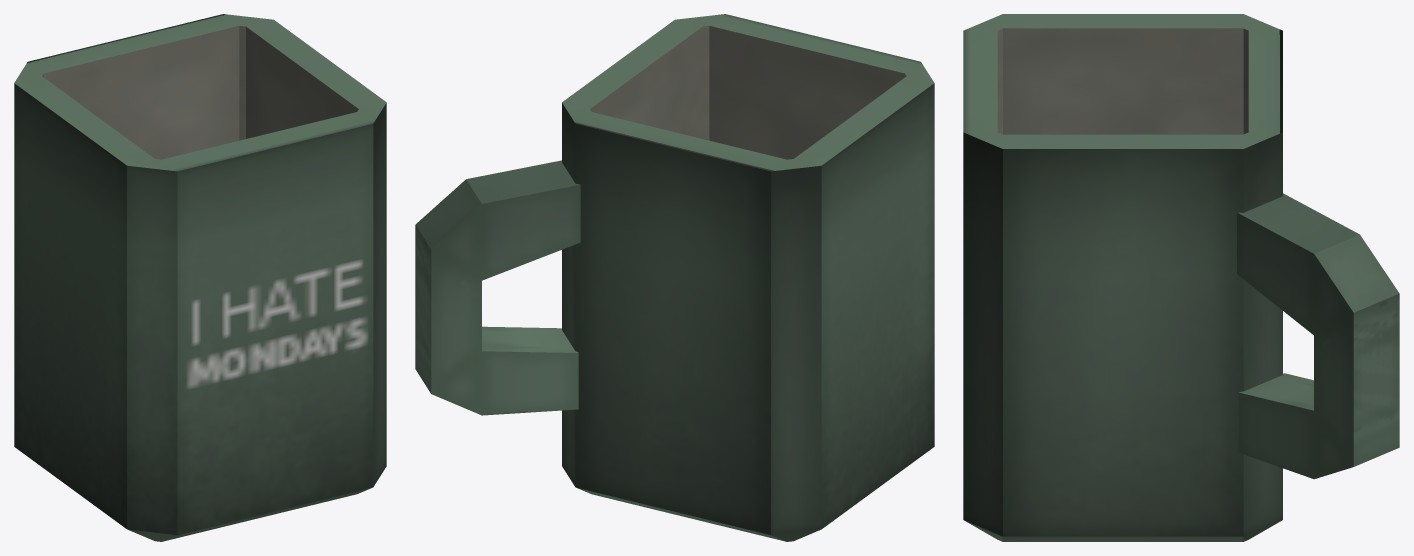
File: MugGreen.fbx
3 renders of one model, left to right at view 1: azimuth 30°, elevation 25°; view 2: azimuth 150°, elevation 25°; view 3: azimuth 270°, elevation 25°, orthographic. The views are drawn at different scales.
Parts seen in each view (by area): view 1: MugGreen; view 2: MugGreen; view 3: MugGreen.
Part boxes in pixels (left/top/right/bottom): MugGreen: left=14, top=14, right=386, bottom=541; MugGreen: left=415, top=14, right=934, bottom=541; MugGreen: left=963, top=14, right=1399, bottom=541.
Size of the model in its own units: 0.0881 by 0.0908 by 0.0881.
Materials: 1 (1 with a texture image).
